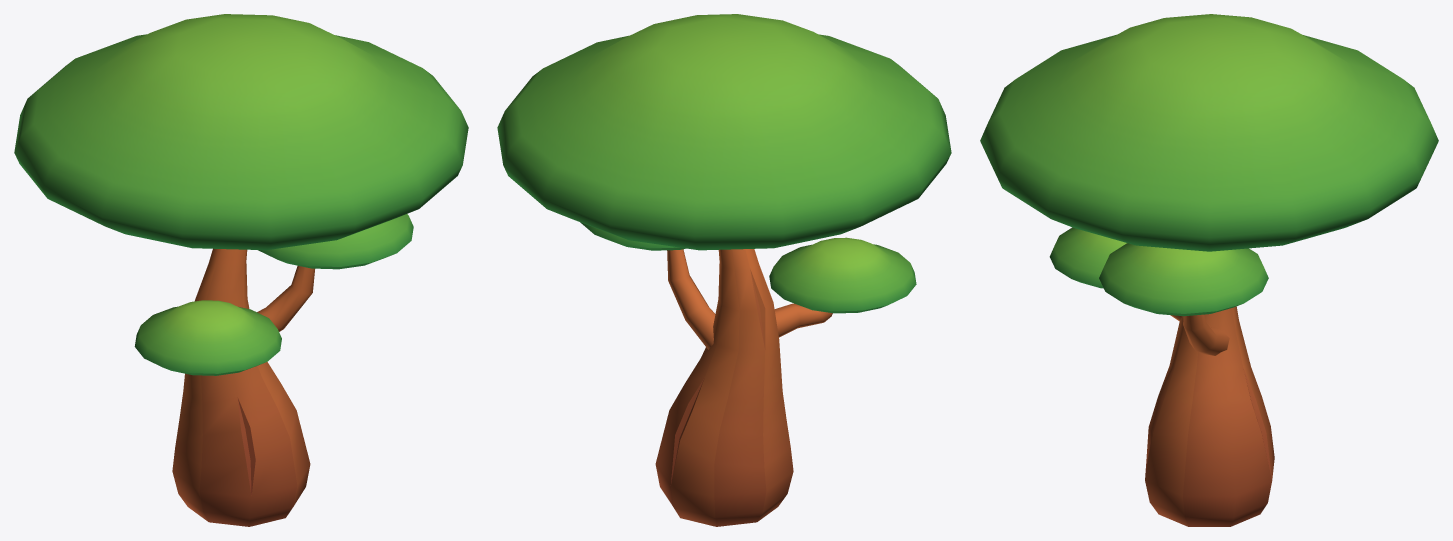
The model's file is Tree_3_A_Color1.glb.
The picture shows the model from 3 angles, left to right: view 1: azimuth 30°, elevation 25°; view 2: azimuth 150°, elevation 25°; view 3: azimuth 270°, elevation 25°; orthographic projection.
Parts seen in each view (by area): view 1: Tree_3_A_Color1; view 2: Tree_3_A_Color1; view 3: Tree_3_A_Color1.
Boxes of the visible parts, bbox=[...] form: Tree_3_A_Color1: bbox=[14, 14, 468, 526]; Tree_3_A_Color1: bbox=[497, 14, 951, 526]; Tree_3_A_Color1: bbox=[980, 14, 1438, 526].
Size of the model in its own units: 3.09 by 3.51 by 3.09.
1 material, 1 textured.
